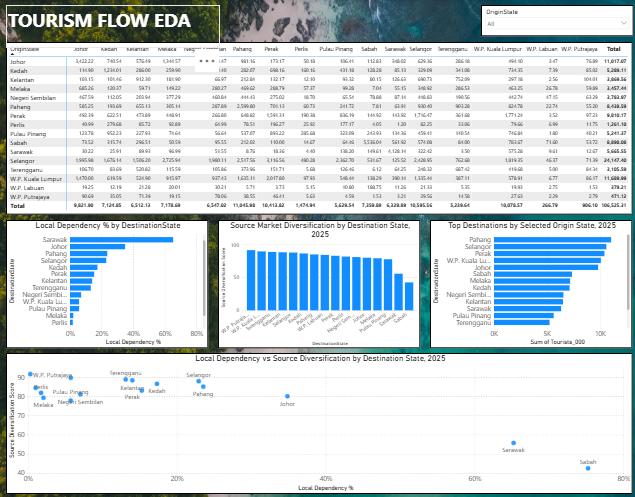

What the dashboard file says about the page in this screenshot:
{"tool":"powerbi","page":{"name":"02 Tourism Flow EDA","canvas":[1920,1500],"ordinal":1},"visuals":[{"type":"pivotTable","fields":{"Columns":["Tourism_Flow.DestinationState"],"Rows":["Tourism_Flow.OriginState"],"Values":["Sum(Tourism_Flow.Tourists_000)"]},"box":[20,128,1880,518],"z":0},{"type":"slicer","fields":{"Values":["Tourism_Flow.OriginState"]},"box":[1446,18,458,94],"z":1000},{"type":"barChart","title":"Top Destinations by Selected Origin State, 2025","fields":{"Category":["Tourism_Flow.DestinationState"],"Y":["Sum(Tourism_Flow.Tourists_000)"]},"box":[1294,662,606.7,385],"z":2000},{"type":"clusteredBarChart","fields":{"Category":["Tourism_Flow.DestinationState"],"Y":["Tourism_Flow.Local Dependency %"]},"box":[20,662,606.7,385],"z":3000},{"type":"columnChart","title":"Source Market Diversification by Destination State, 2025","fields":{"Category":["Tourism_Flow.DestinationState"],"Y":["Tourism_Flow.Source Diversification Score"]},"box":[656,662,606.7,385],"z":4000},{"type":"scatterChart","title":"Local Dependency vs Source Diversification by Destination State, 2025","fields":{"Category":["Tourism_Flow.DestinationState"],"X":["Tourism_Flow.Local Dependency %"],"Y":["Tourism_Flow.Source Diversification Score"]},"box":[20,1062.5,1880,422.5],"z":5000},{"type":"textbox","box":[20,17.5,642,128],"z":6000}]}

Visuals, with their boxes in screenshot pixels (x1, y1, x2, y2), scaled from the page's 1920x1500 canvas onto the 635x497 screenshot:
pivotTable - Tourism_Flow.DestinationState x Tourism_Flow.OriginState: {"x1": 7, "y1": 42, "x2": 628, "y2": 214}
slicer - Tourism_Flow.OriginState: {"x1": 478, "y1": 6, "x2": 630, "y2": 37}
"Top Destinations by Selected Origin State, 2025" barChart: {"x1": 428, "y1": 219, "x2": 629, "y2": 347}
clusteredBarChart - Tourism_Flow.DestinationState x Tourism_Flow.Local Dependency %: {"x1": 7, "y1": 219, "x2": 207, "y2": 347}
"Source Market Diversification by Destination State, 2025" columnChart: {"x1": 217, "y1": 219, "x2": 418, "y2": 347}
"Local Dependency vs Source Diversification by Destination State, 2025" scatterChart: {"x1": 7, "y1": 352, "x2": 628, "y2": 492}
textbox: {"x1": 7, "y1": 6, "x2": 219, "y2": 48}
